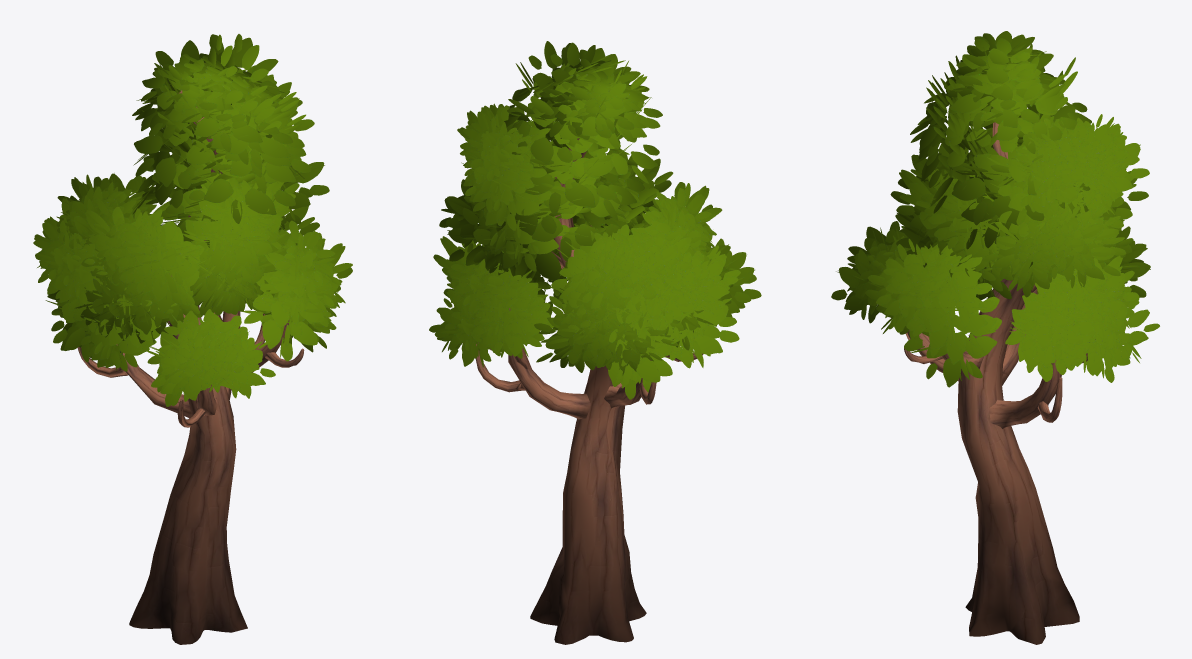
Rendered from common-tree-2.glb.
3 renders of one model, left to right at view 1: azimuth 30°, elevation 25°; view 2: azimuth 150°, elevation 25°; view 3: azimuth 270°, elevation 25°, orthographic. The views are drawn at different scales.
Visible parts, largest first — view 1: CommonTree_2; view 2: CommonTree_2; view 3: CommonTree_2.
Boxes of the visible parts, x1=… form: CommonTree_2: x1=33, y1=34, x2=352, y2=644; CommonTree_2: x1=429, y1=41, x2=761, y2=644; CommonTree_2: x1=831, y1=31, x2=1159, y2=644.
Size of the model in its own units: 4.46 by 7.64 by 4.28.
Materials: 2 (2 with a texture image).
